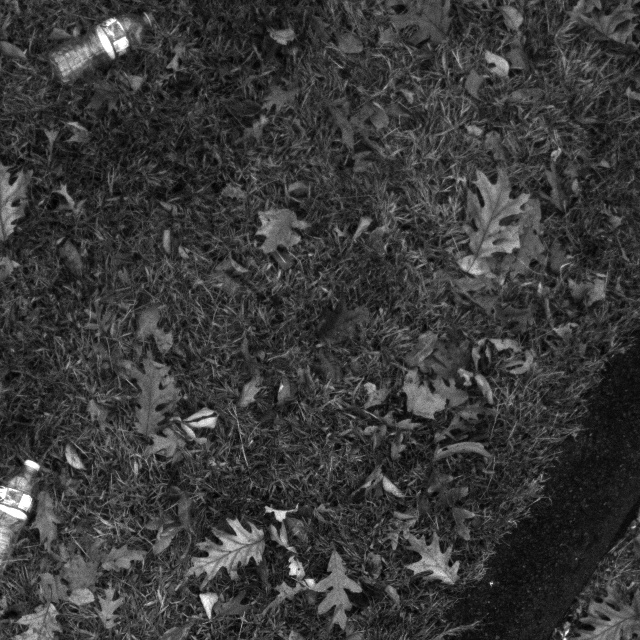bottle: (45, 0, 164, 93)
